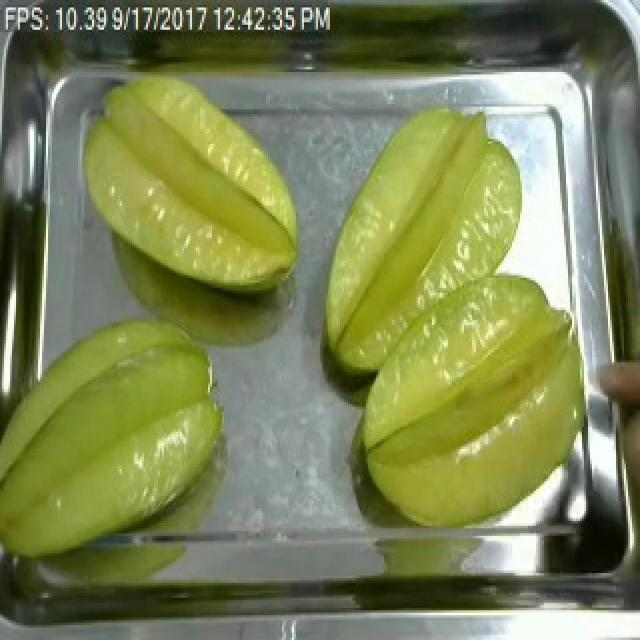fruit: (350, 255, 600, 541), (312, 94, 536, 390), (0, 300, 242, 573), (70, 67, 316, 303)
